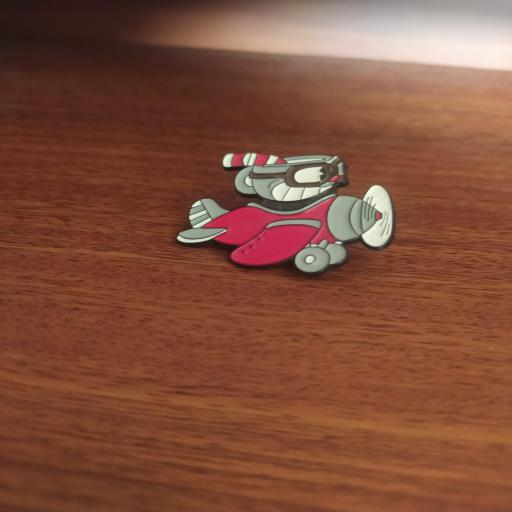Pin: (169, 143, 404, 281)
